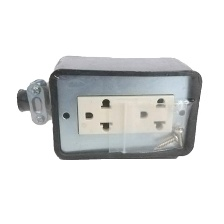three_eye_plug: (44, 49, 203, 166)
